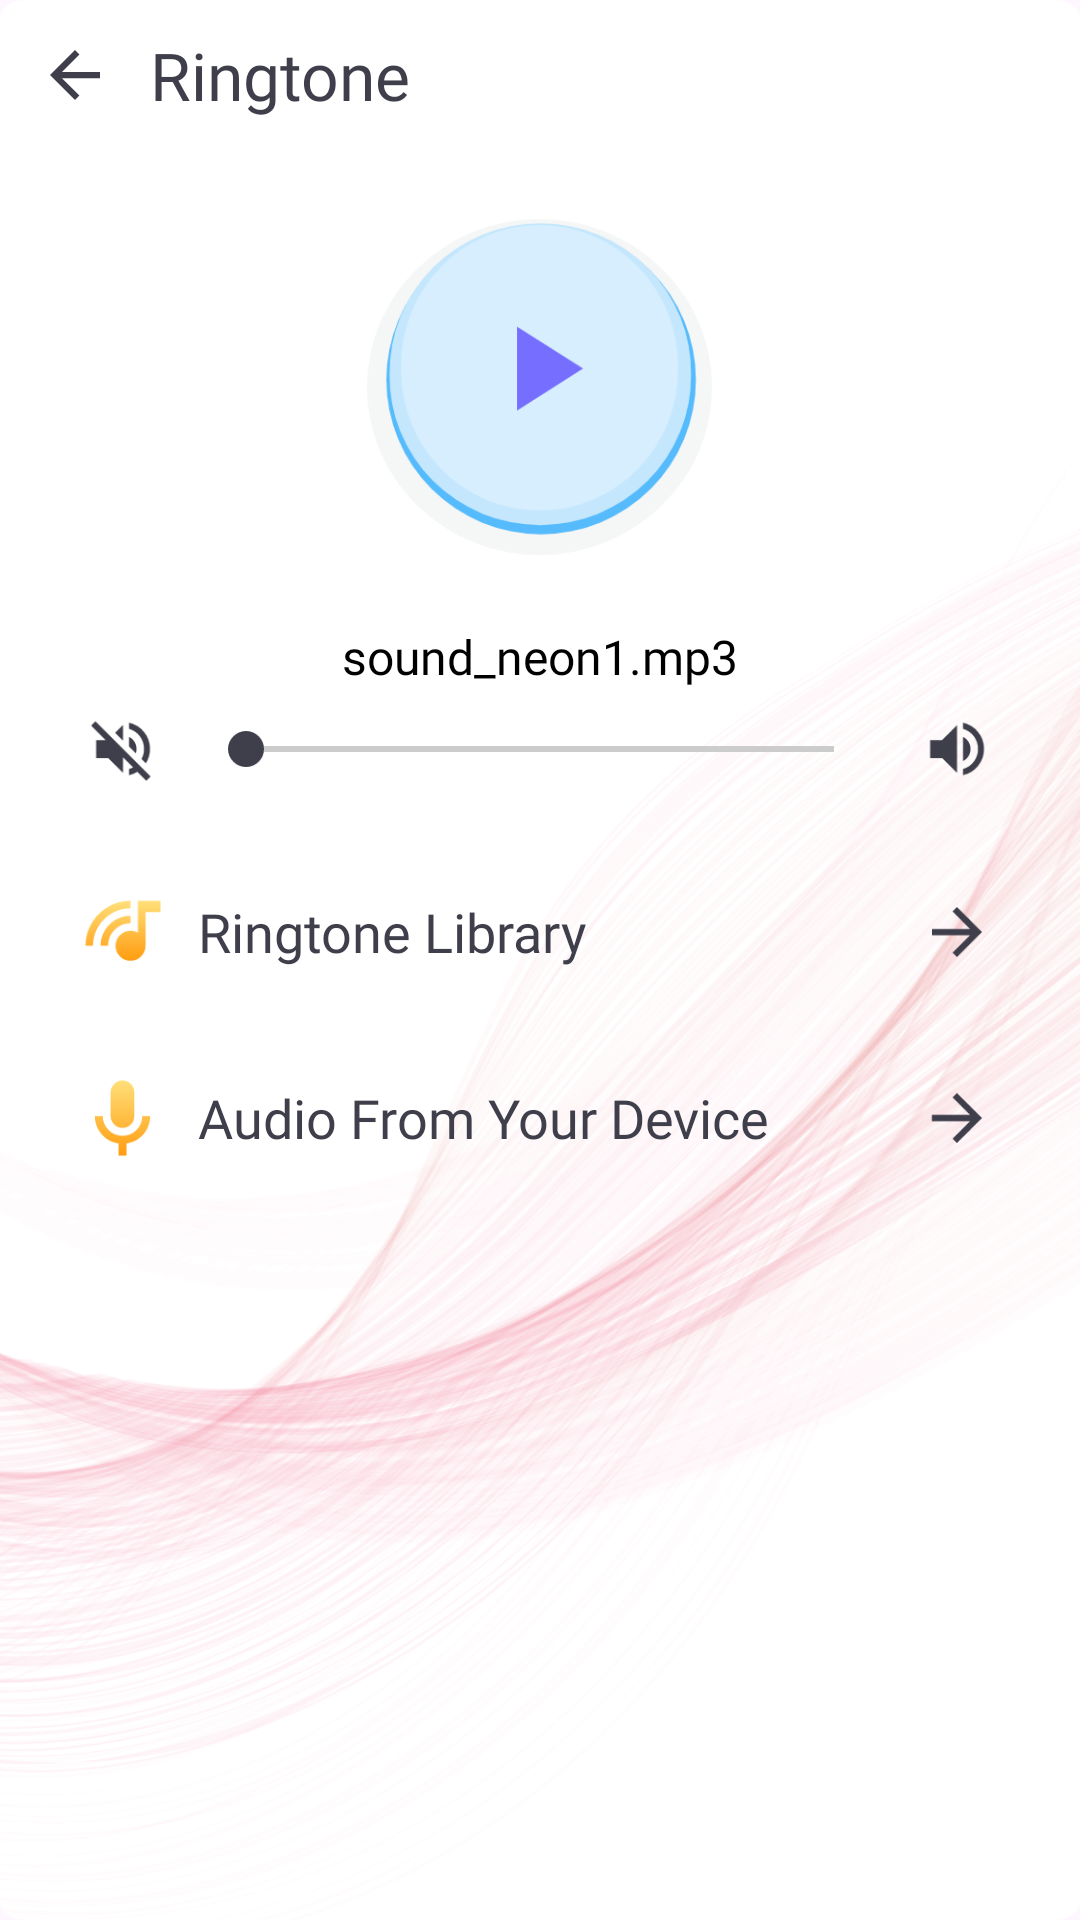

Named icons in this screenshot (1080*1920) and their centers, point (x, y):
micro: point (122, 1118)
play gun: point (541, 379)
volume giam: point (121, 751)
volume tang: point (957, 749)
